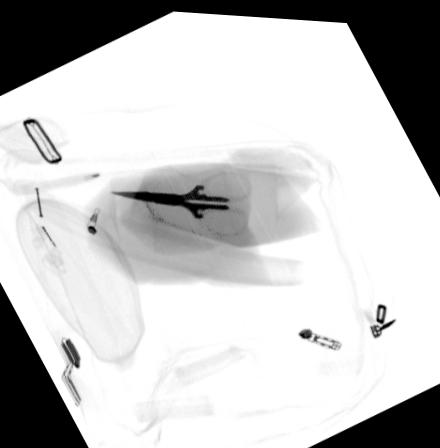Scissors: (110, 162, 252, 233)
